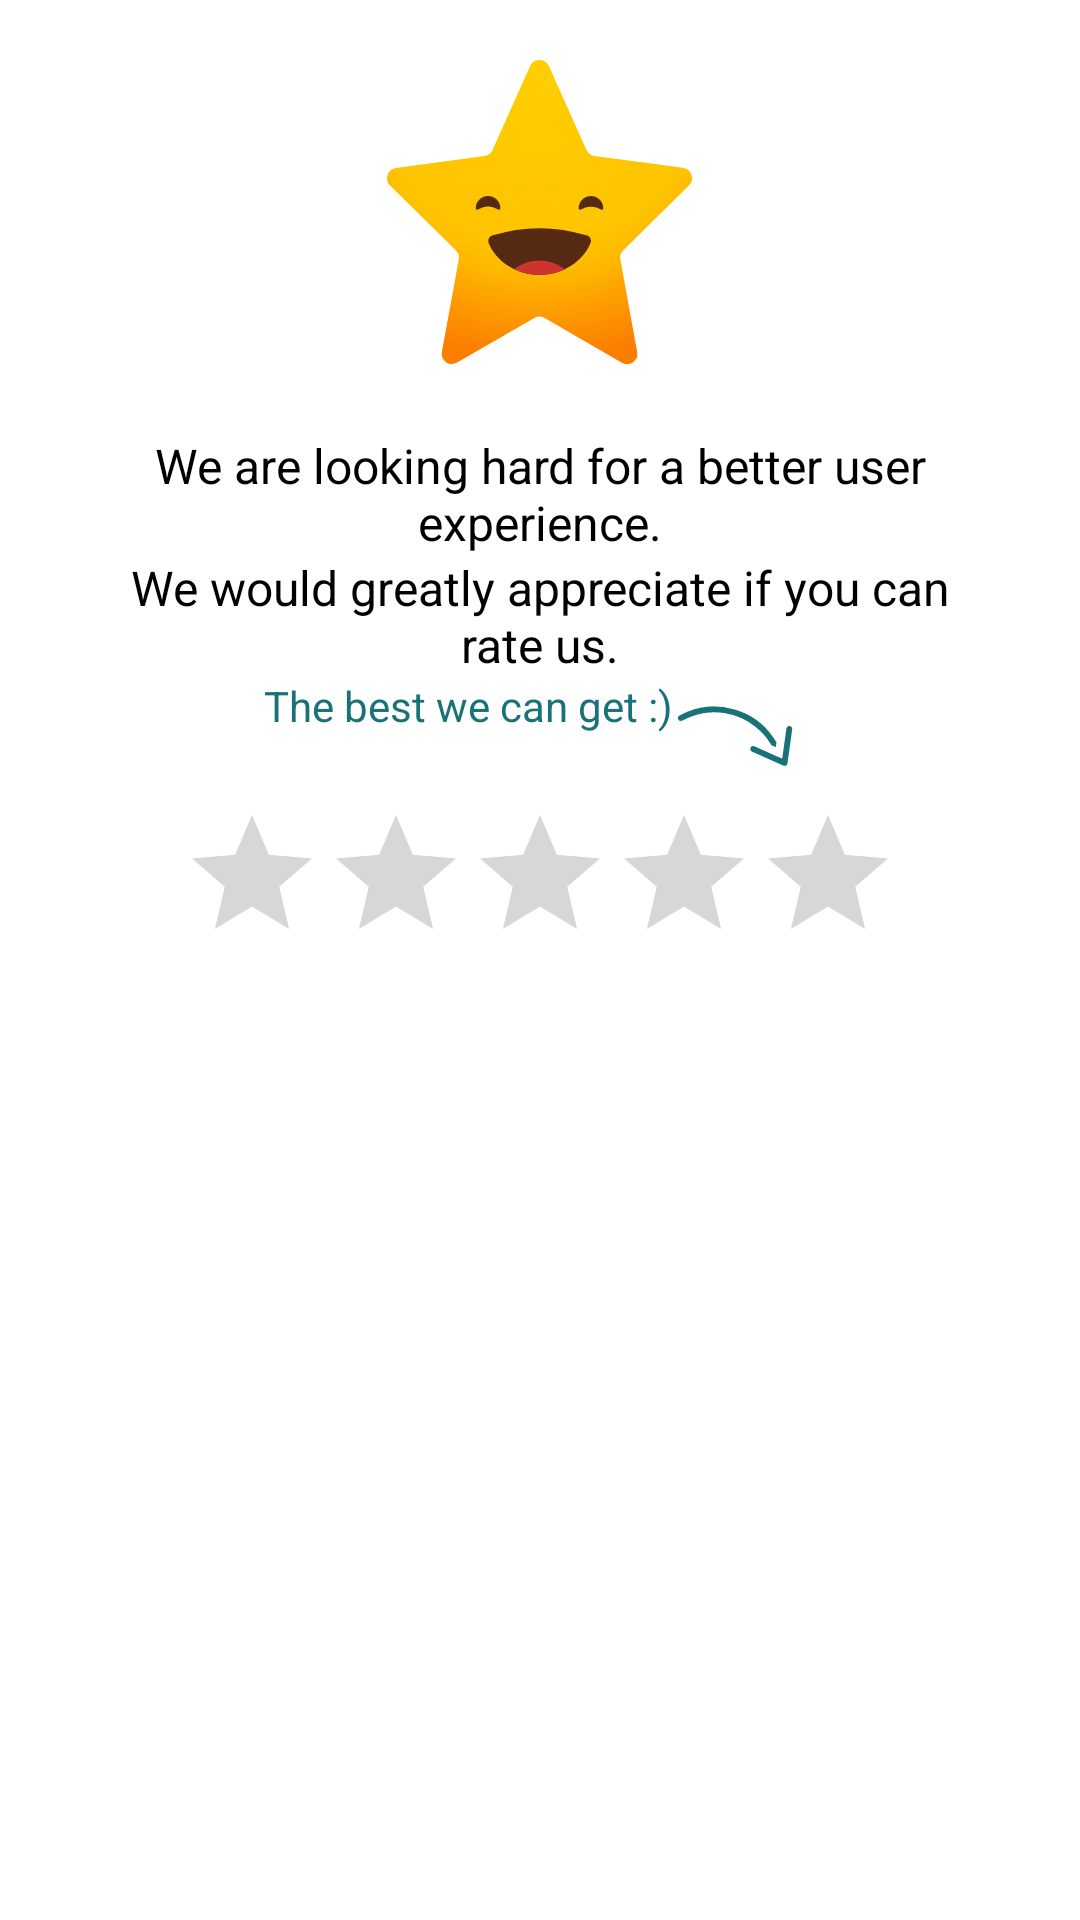

Named icons in this screenshot (1080×1920) and their bounding boxes, [x1, y1, x2, y2]:
rate emoji: [387, 60, 692, 364]
rate us arrow: [677, 706, 793, 766]
